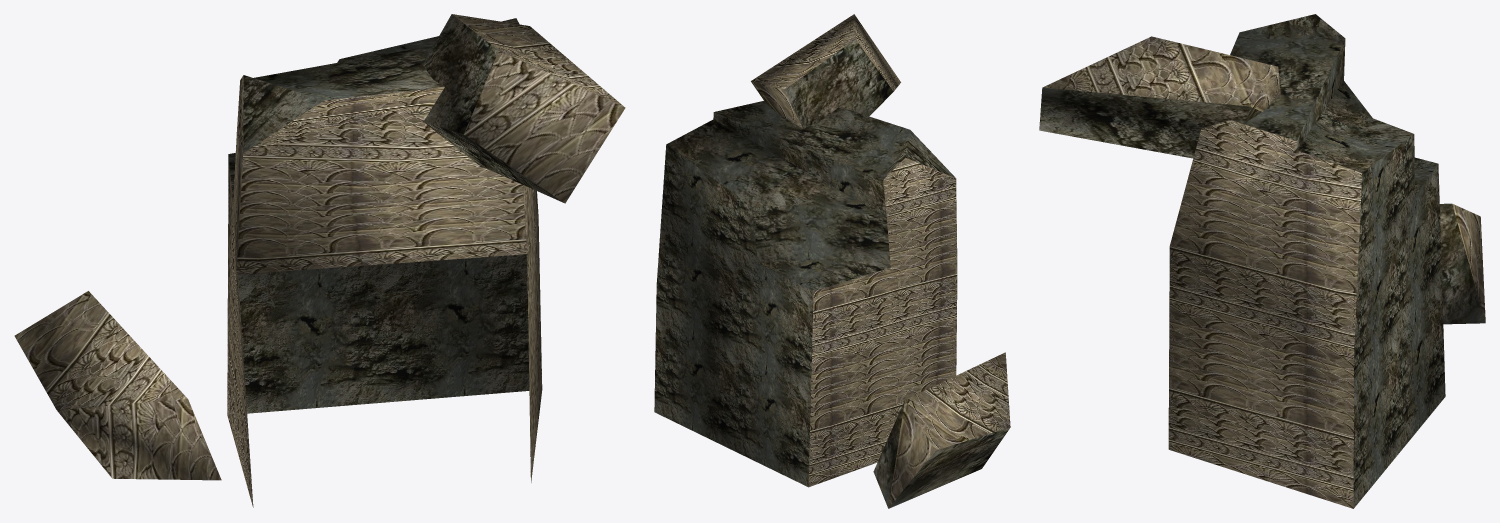
The model's file is TPL_EVT_BRIDGEBROKEN_01.glb.
3 renders of one model, left to right at view 1: azimuth 30°, elevation 25°; view 2: azimuth 150°, elevation 25°; view 3: azimuth 270°, elevation 25°, orthographic. The views are drawn at different scales.
Visible parts, largest first — view 1: Mesh; view 2: Mesh; view 3: Mesh.
Part boxes in pixels (x1=…): Mesh: x1=14, y1=14, x2=625, y2=507; Mesh: x1=654, y1=14, x2=1010, y2=508; Mesh: x1=1039, y1=14, x2=1485, y2=508.
Bounding box in the file's own units: 15.78 × 14.36 × 14.36.
Materials: 2 (2 with a texture image).
